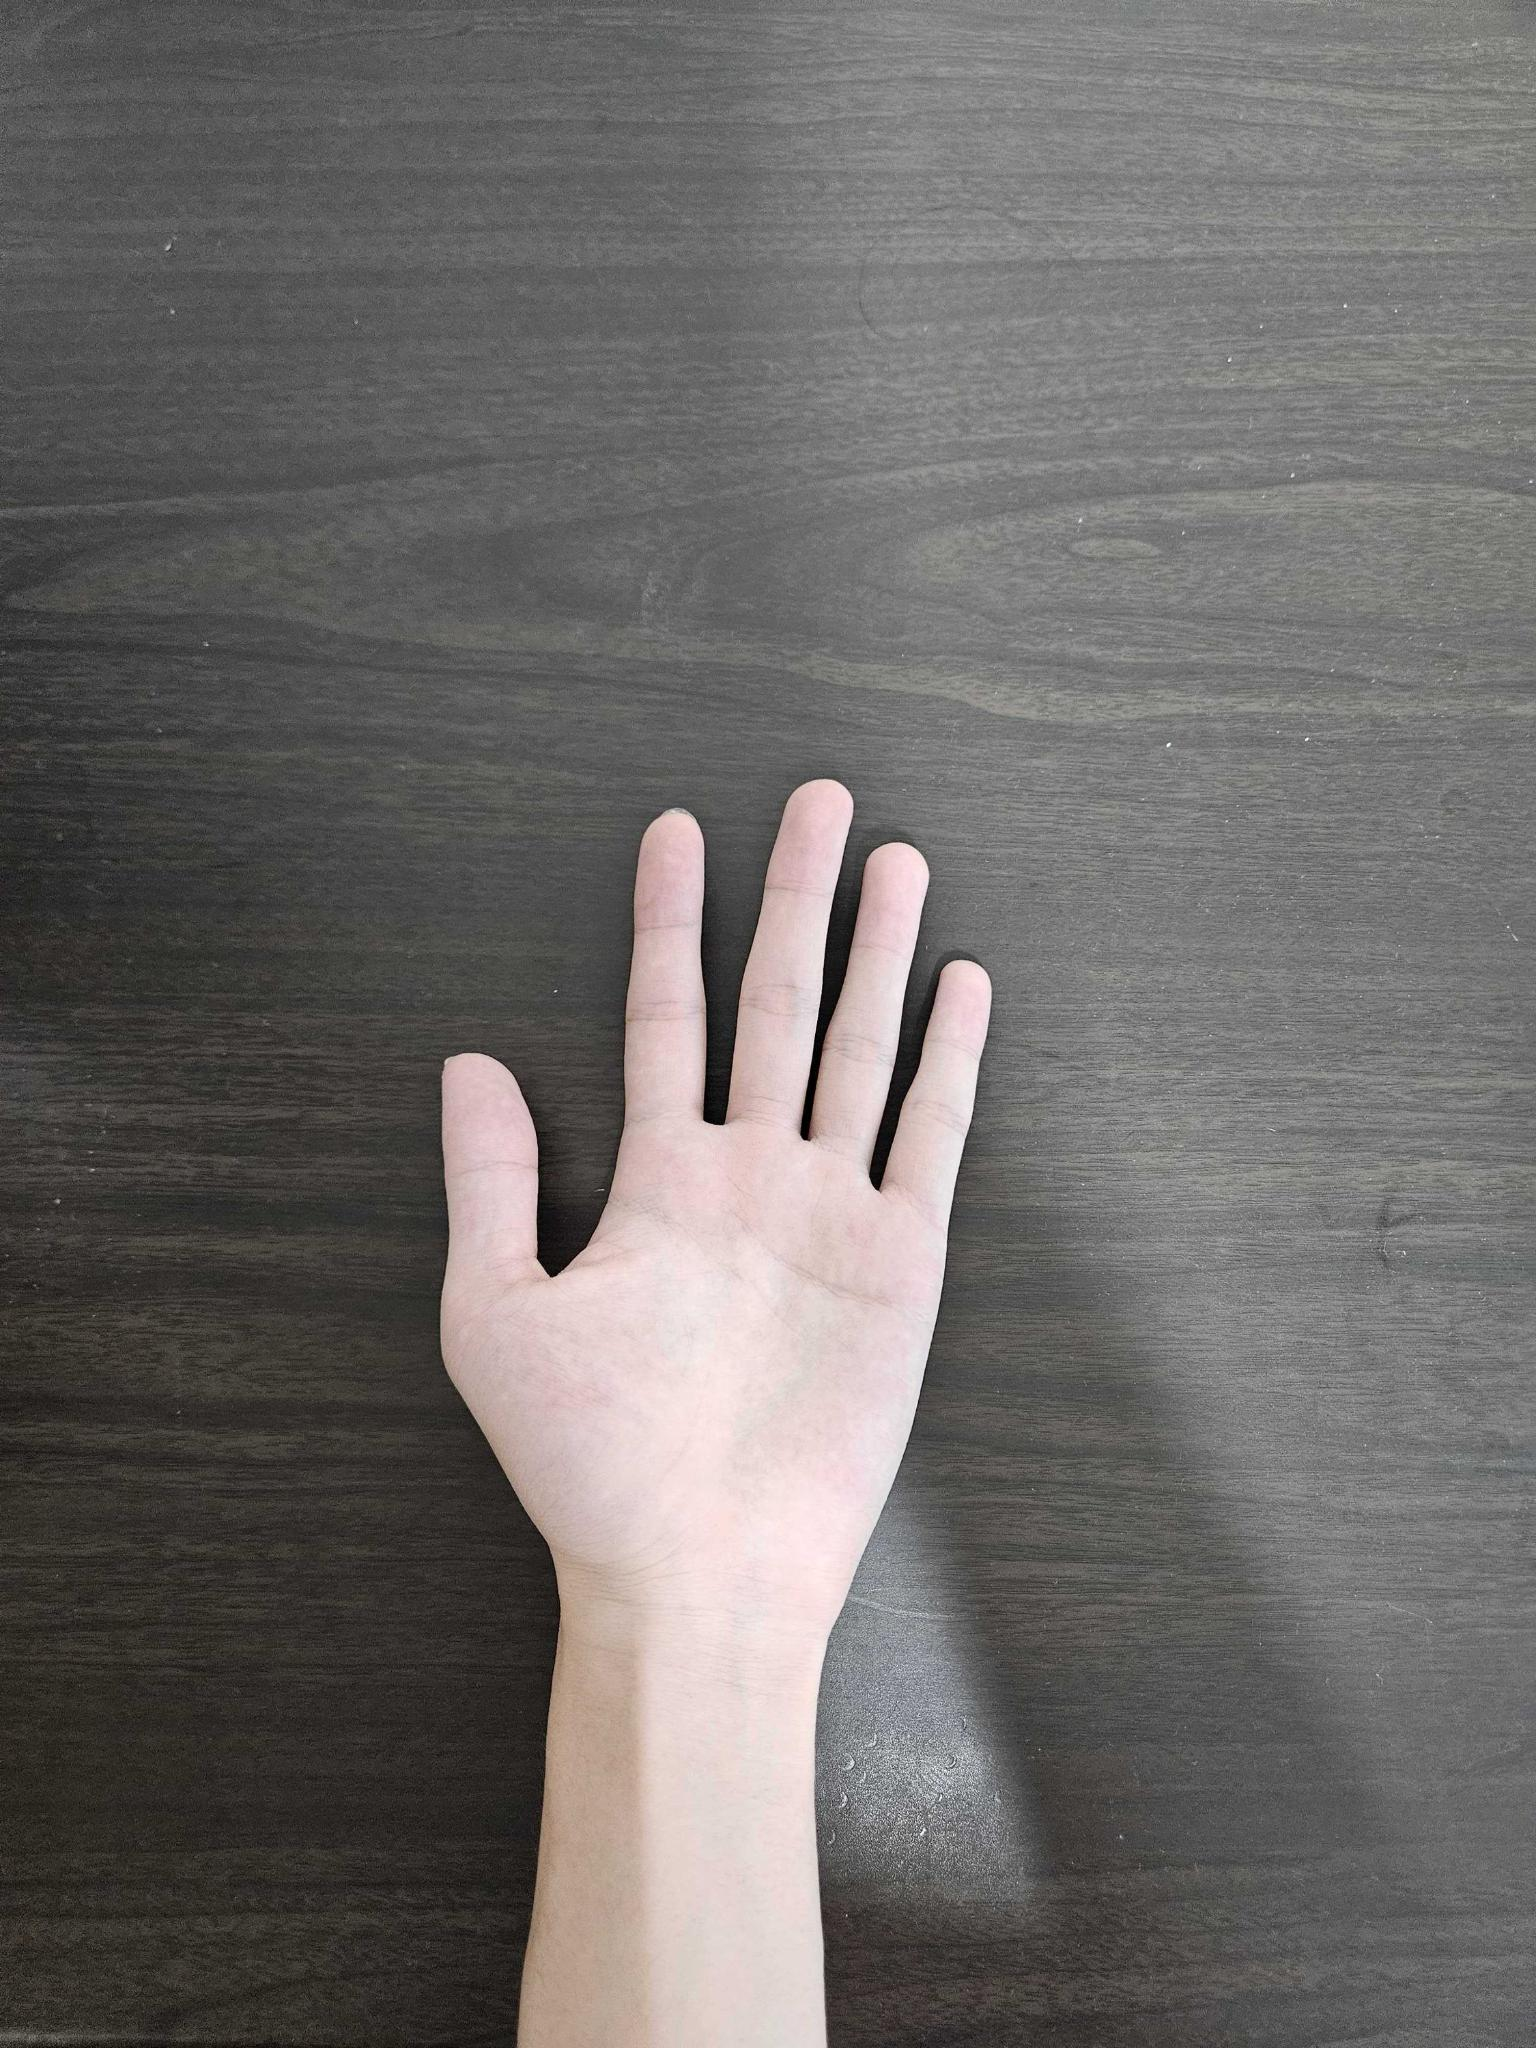open: (410, 764, 1010, 1645)
